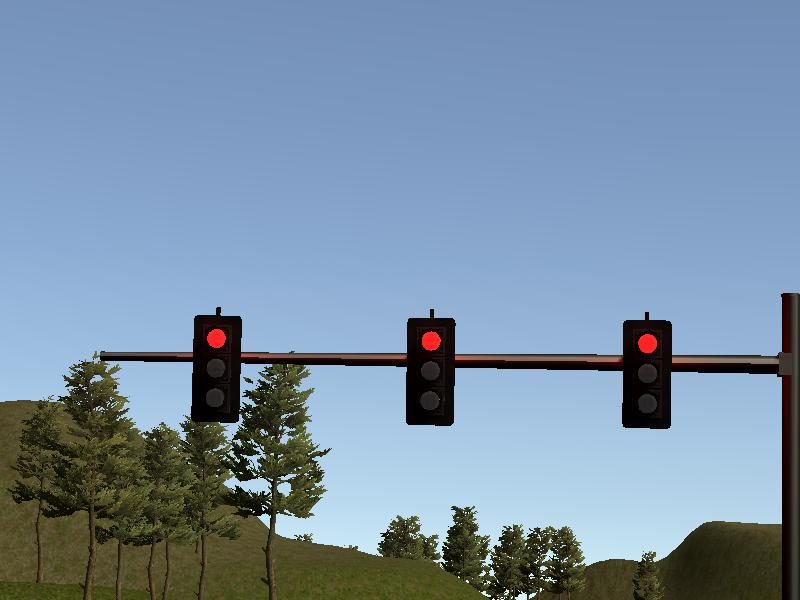Red: (623, 319, 670, 429), (193, 314, 240, 421), (408, 317, 452, 426)
